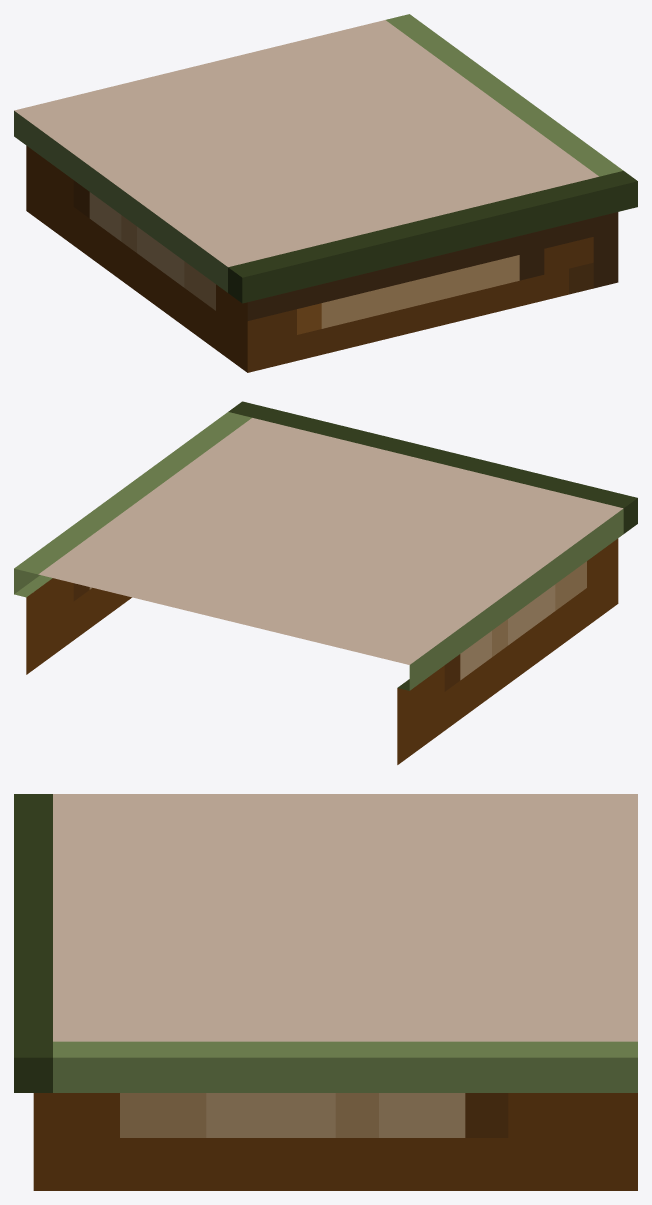
Rendered from counter_518x18.gltf.
3 renders of one model, top to bottom at view 1: azimuth 30°, elevation 25°; view 2: azimuth 150°, elevation 25°; view 3: azimuth 270°, elevation 25°, orthographic. The views are drawn at different scales.
Visible parts, largest first — view 1: Counter_518x18; view 2: Counter_518x18; view 3: Counter_518x18.
Part boxes in pixels (x1=…): Counter_518x18: x1=14, y1=14, x2=637, y2=372; Counter_518x18: x1=14, y1=401, x2=637, y2=764; Counter_518x18: x1=14, y1=794, x2=637, y2=1190.
Bounding box in the file's own units: 2.07 × 0.5175 × 2.07.
Materials: 1 (1 with a texture image).
